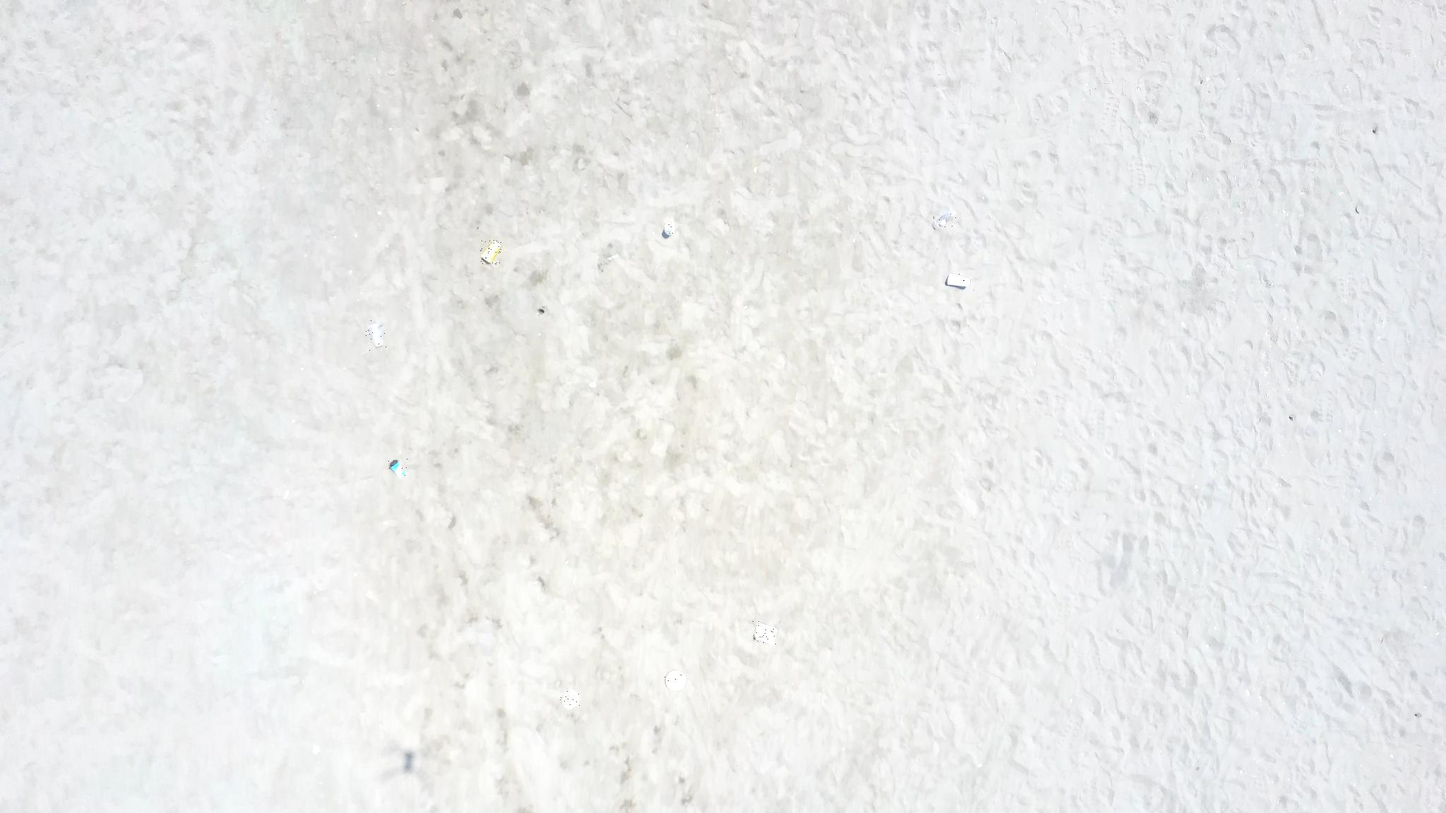Garbage: (753, 622, 777, 644), (933, 208, 955, 230), (482, 240, 502, 263), (664, 670, 686, 690), (367, 321, 383, 346), (561, 689, 580, 708), (944, 273, 967, 288), (388, 459, 407, 476), (401, 749, 415, 771), (662, 219, 675, 237)
